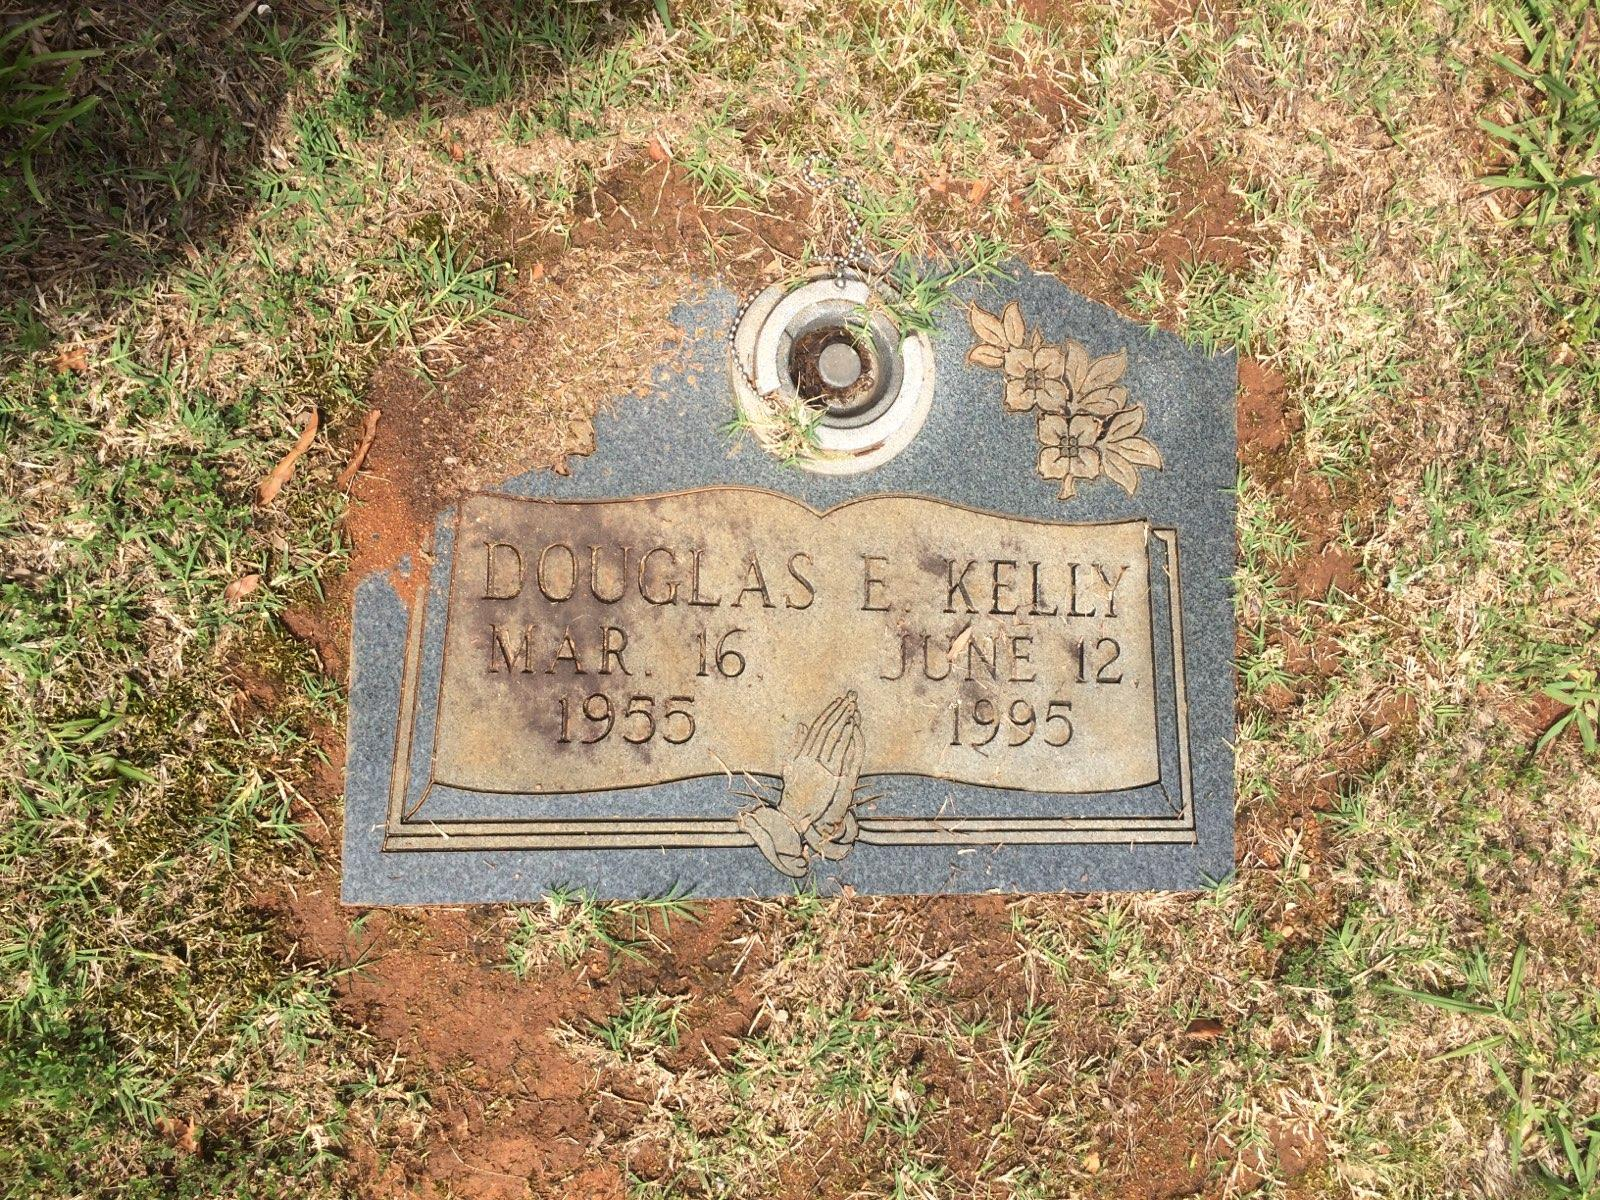flat: (357, 221, 1240, 900)
